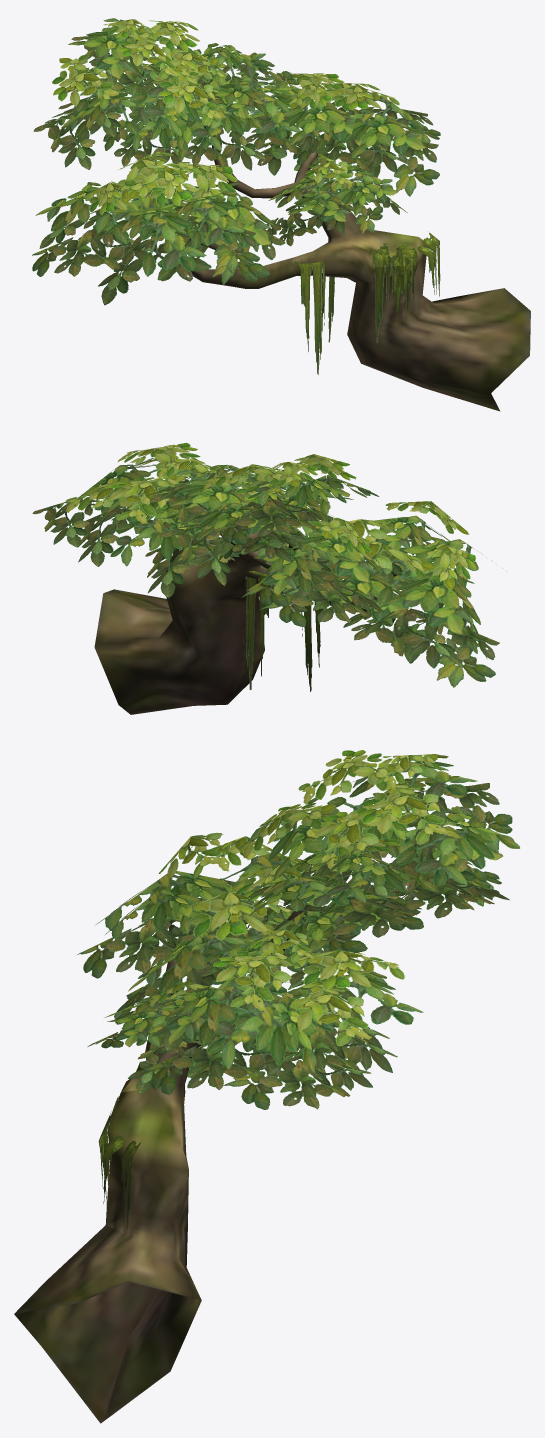
Rendered from S_Tree_Green132.FBX.
3 views of the same model, one above another, from view 1: azimuth 30°, elevation 25°; view 2: azimuth 150°, elevation 25°; view 3: azimuth 270°, elevation 25° (orthographic). The views are drawn at different scales.
Parts seen in each view (by area): view 1: S_Tree_Green132_2, S_Tree_Green132_1; view 2: S_Tree_Green132_2, S_Tree_Green132_1; view 3: S_Tree_Green132_2, S_Tree_Green132_1.
Part boxes in pixels (box(x1,y1,x2,y2)): S_Tree_Green132_2: box(32, 18, 440, 374); S_Tree_Green132_1: box(191, 118, 530, 411); S_Tree_Green132_2: box(32, 442, 499, 691); S_Tree_Green132_1: box(94, 530, 402, 714); S_Tree_Green132_2: box(77, 750, 519, 1228); S_Tree_Green132_1: box(14, 864, 311, 1423).
Bounding box in the file's own units: 196 × 166 × 155.
